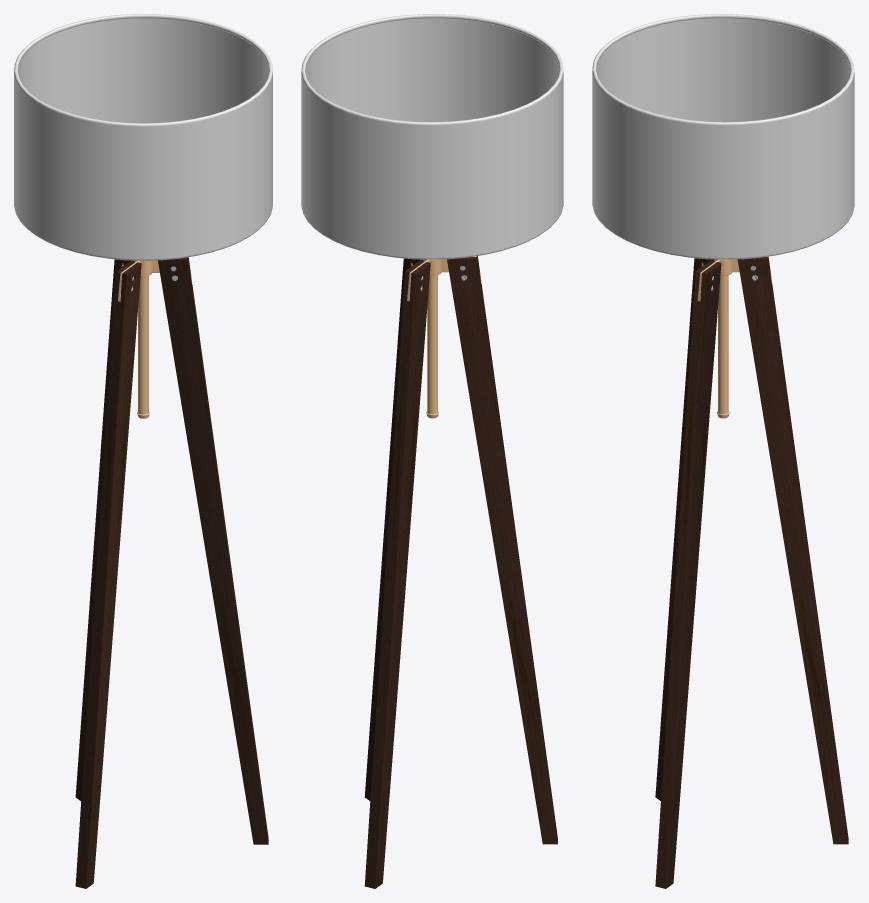
Rendered from lamp.glb.
3 renders of one model, left to right at view 1: azimuth 30°, elevation 25°; view 2: azimuth 150°, elevation 25°; view 3: azimuth 270°, elevation 25°, orthographic.
Parts seen in each view (by area): view 1: Irvin_Floor_Lamp_Dark_Wood; view 2: Irvin_Floor_Lamp_Dark_Wood; view 3: Irvin_Floor_Lamp_Dark_Wood.
Boxes of the visible parts, x1,y1,x2,y2 form: Irvin_Floor_Lamp_Dark_Wood: (14, 14, 272, 888); Irvin_Floor_Lamp_Dark_Wood: (301, 14, 563, 888); Irvin_Floor_Lamp_Dark_Wood: (592, 14, 854, 888).
Size of what is drawn, in the model's own units: 46.62 by 153 by 47.
6 materials, 1 textured.
